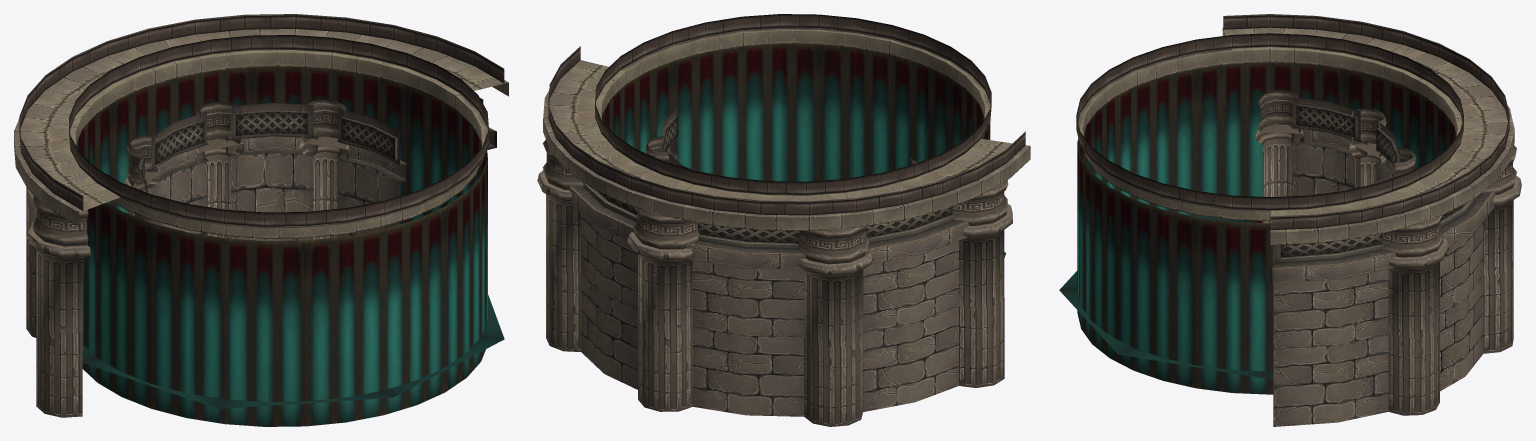
Rendered from HD_YuYanZheZhiTa_002_04.FBX.
The picture shows the model from 3 angles, left to right: view 1: azimuth 30°, elevation 25°; view 2: azimuth 150°, elevation 25°; view 3: azimuth 270°, elevation 25°; orthographic projection. The views are drawn at different scales.
Parts seen in each view (by area): view 1: HD_YuYanZheZhiTa_002_04; view 2: HD_YuYanZheZhiTa_002_04; view 3: HD_YuYanZheZhiTa_002_04.
Boxes of the visible parts, bbox=[...] form: HD_YuYanZheZhiTa_002_04: bbox=[14, 14, 508, 426]; HD_YuYanZheZhiTa_002_04: bbox=[537, 14, 1030, 426]; HD_YuYanZheZhiTa_002_04: bbox=[1059, 14, 1521, 426].
Size of the model in its own units: 5576 by 2719 by 5201.
